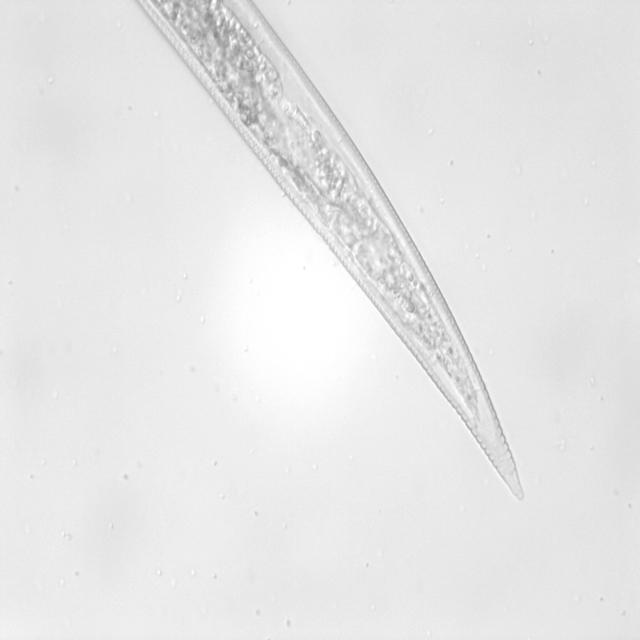Radopholus: (94, 0, 534, 517)
